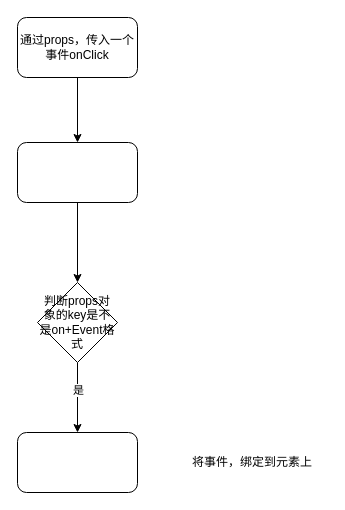
Image size: 345x510. Some labels were removed from this diagram. The centre of each missing label's shape, as x and y in pixels:
"mountElement" goes at pixel 77 172.
"给el注册事件,el.addEventListener" goes at pixel 77 462.
